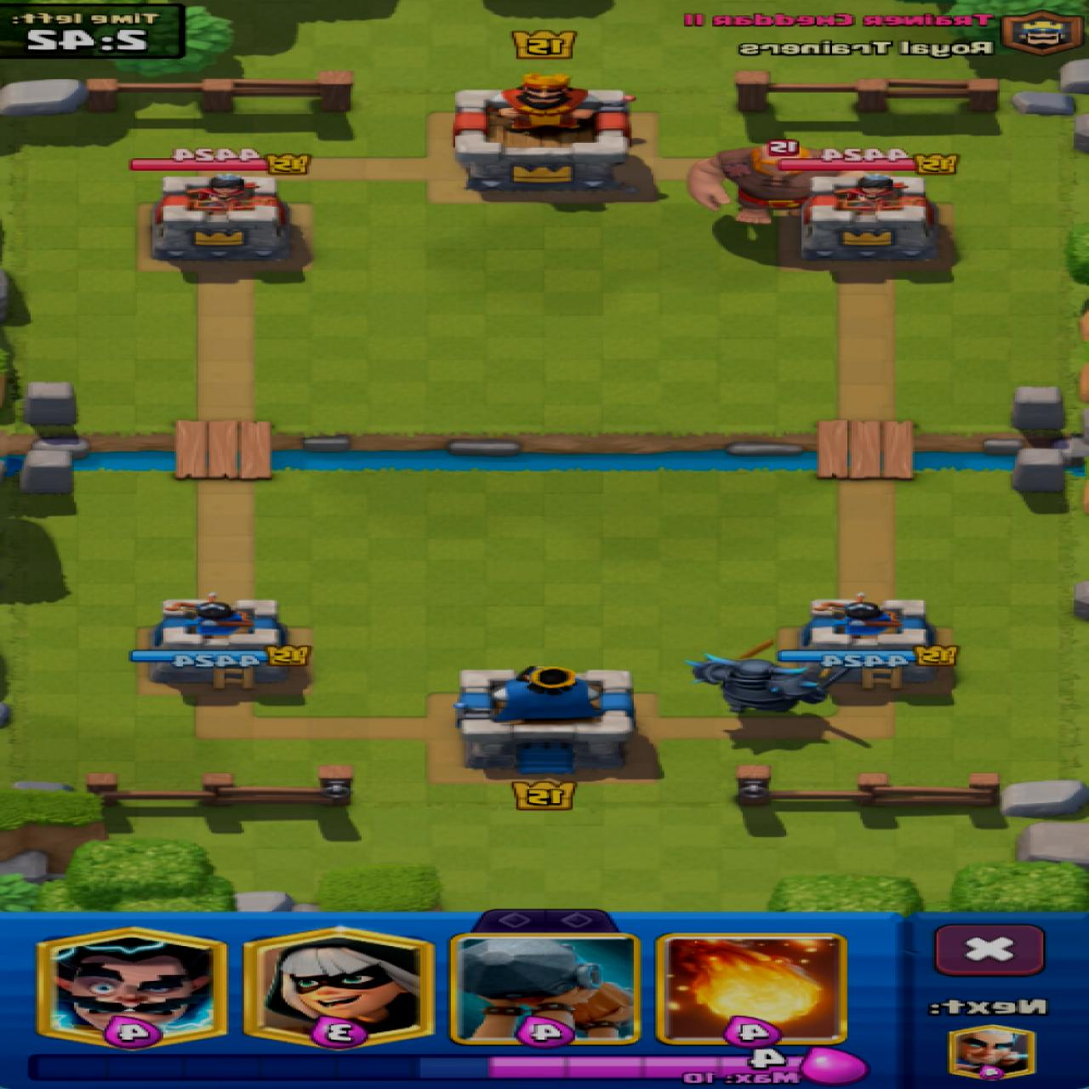Enemy-Giant: (690, 143, 817, 224)
Enemy-KingTower: (455, 87, 632, 193)
Enemy-PrincessTower: (155, 173, 290, 261), (804, 172, 939, 259)
